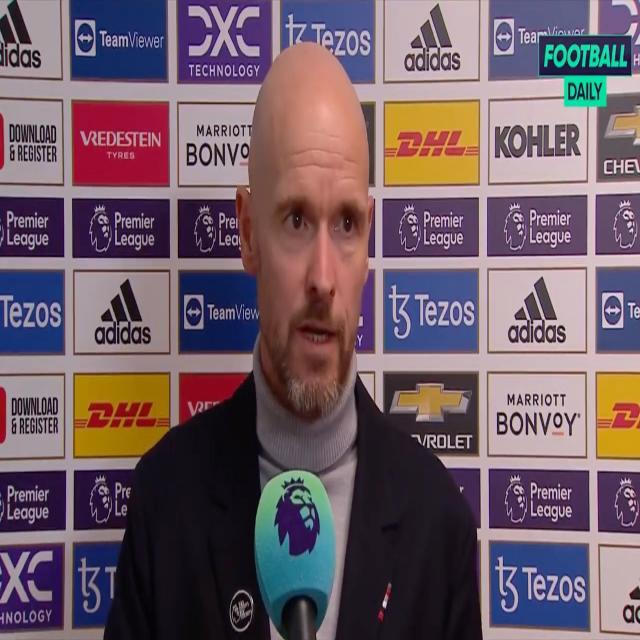Adidas: (403, 0, 462, 73), (507, 274, 567, 344), (95, 276, 152, 348)
Chevrolet: (391, 380, 474, 450)
Kohler: (494, 121, 580, 162)
TeamViewer: (76, 19, 165, 56), (494, 18, 584, 54)
